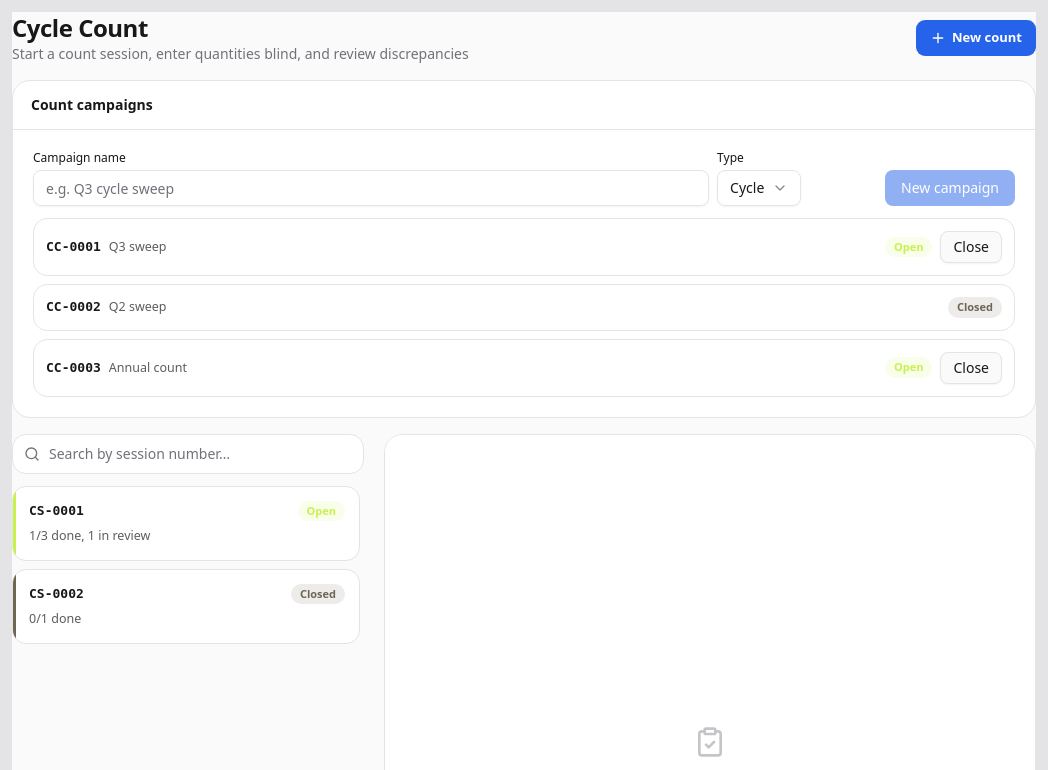
Test: CycleCountPage › campaigns card (St1) › start-form campaign select offers only OPEN CYCLE campaigns
Click the button "New count": [976, 38] box 916,20 -> 1036,56
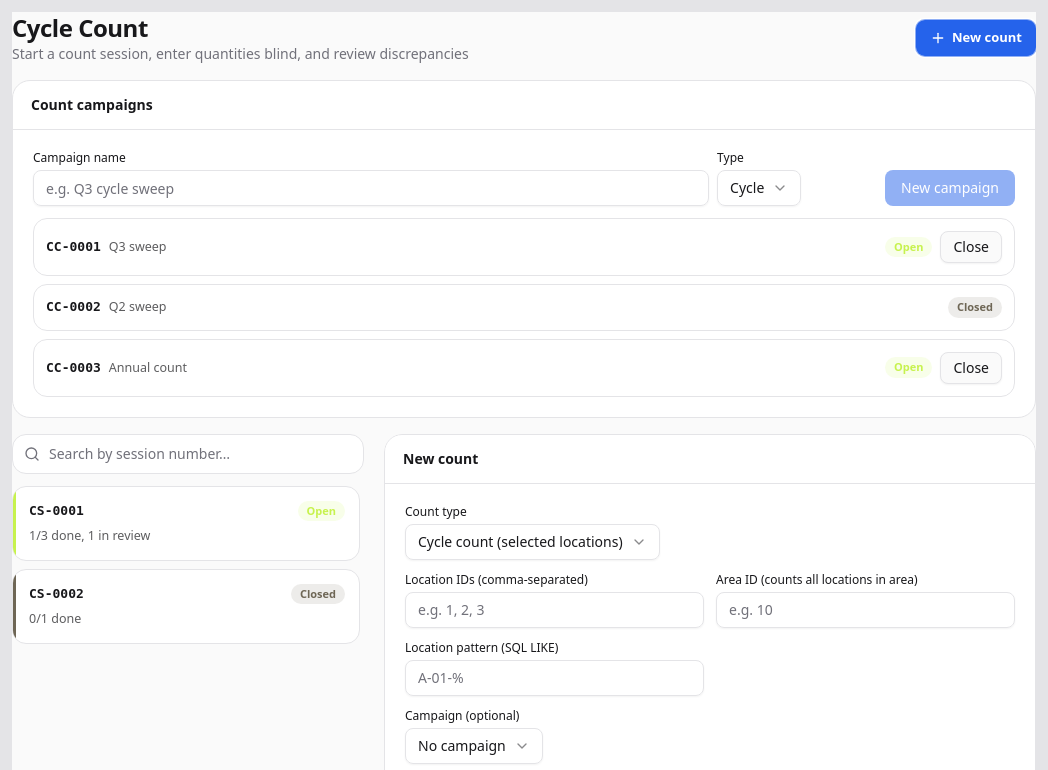
Click the dropdown with test id "campaign-select": [474, 746] box 405,728 -> 543,764
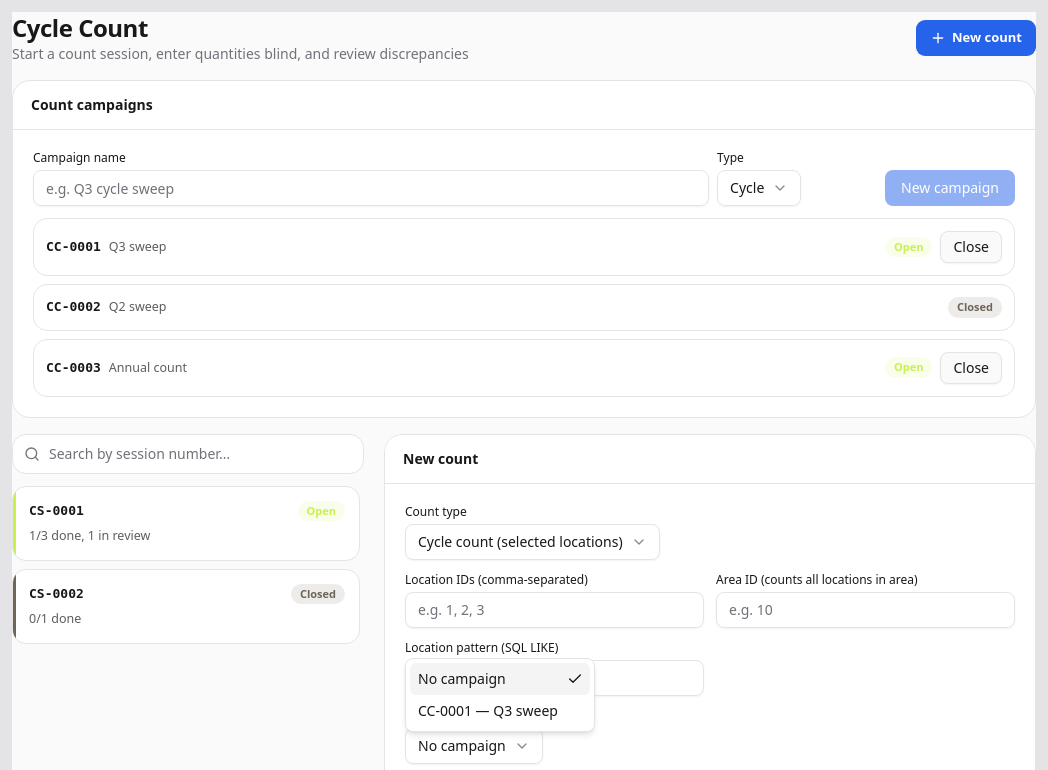
expect the text "CC-0001 — Q3 sweep" is shown: met, box 418,701 -> 558,721
